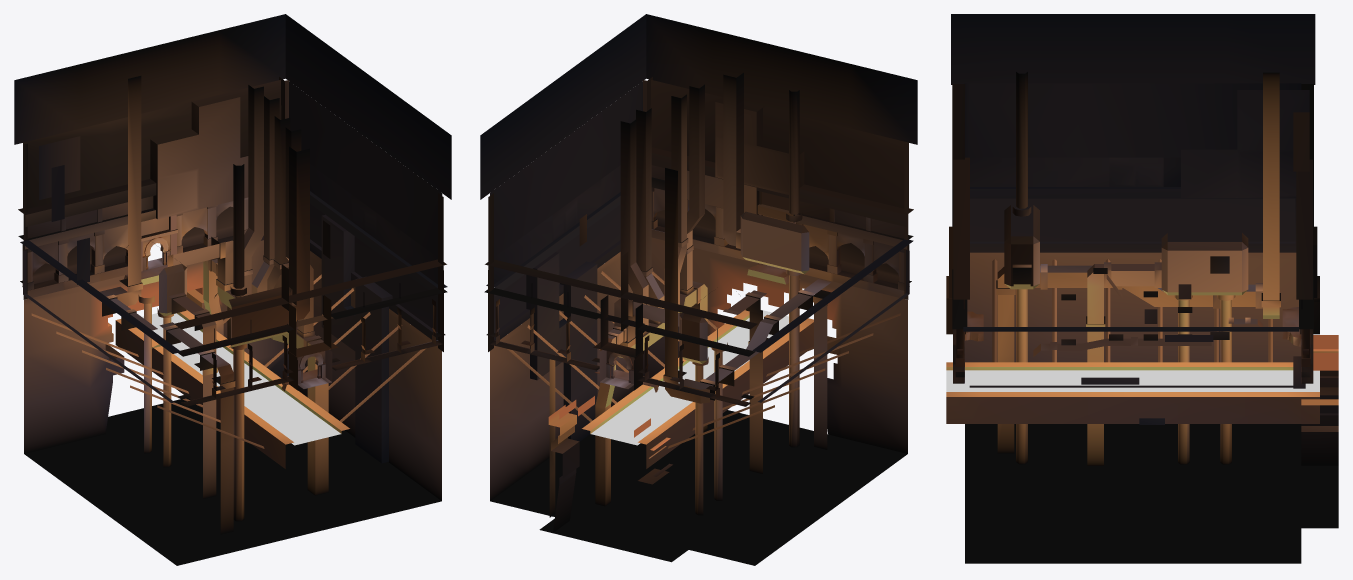
File: 07Lava.gltf
The picture shows the model from 3 angles, left to right: view 1: azimuth 30°, elevation 25°; view 2: azimuth 150°, elevation 25°; view 3: azimuth 270°, elevation 25°; orthographic projection. The views are drawn at different scales.
Visible parts, largest first — view 1: stg031_o27_Mesh_0048, stg031_o27_Mesh_0030, stg031_o27_Mesh_0000, stg031_o27_Mesh_0026, stg031_o27_Mesh_0062, stg031_o27_Mesh_0006, stg031_o27_Mesh_0018, stg031_o27_Mesh_0022, stg031_o27_Mesh_0073, stg031_o27_Mesh_0071, stg031_steelflow_27_Mesh_0000, stg031_o27_Mesh_0043 (+16 smaller); view 2: stg031_o27_Mesh_0048, stg031_o27_Mesh_0030, stg031_o27_Mesh_0000, stg031_o27_Mesh_0062, stg031_o27_Mesh_0026, stg031_o27_Mesh_0006, stg031_o27_Mesh_0018, stg031_o27_Mesh_0022, stg031_o27_Mesh_0071, stg031_o27_Mesh_0073, stg031_o27_Mesh_0043, stg031_steelflow_27_Mesh_0000 (+16 smaller); view 3: stg031_o27_Mesh_0030, stg031_o27_Mesh_0048, stg031_o27_Mesh_0000, stg031_o27_Mesh_0062, stg031_o27_Mesh_0073, stg031_o27_Mesh_0018, stg031_o27_Mesh_0026, stg031_steelflow_27_Mesh_0000, stg031_o27_Mesh_0022, stg031_o27_Mesh_0006, stg031_o27_Mesh_0043, stg031_o27_Mesh_0011 (+11 smaller).
Boxes of the visible parts, x1,y1,x2,y2 form: stg031_o27_Mesh_0048: (14,14,451,451); stg031_o27_Mesh_0030: (24,251,441,565); stg031_o27_Mesh_0000: (99,76,328,534); stg031_o27_Mesh_0026: (39,97,392,463); stg031_o27_Mesh_0062: (23,83,439,257); stg031_o27_Mesh_0006: (31,164,426,521); stg031_o27_Mesh_0018: (23,80,437,360); stg031_o27_Mesh_0022: (20,77,447,360); stg031_o27_Mesh_0073: (115,310,349,468); stg031_o27_Mesh_0071: (18,199,447,389); stg031_steelflow_27_Mesh_0000: (142,313,340,445); stg031_o27_Mesh_0043: (18,155,446,329); stg031_o27_Mesh_0048: (480,14,917,451); stg031_o27_Mesh_0030: (490,237,907,565); stg031_o27_Mesh_0000: (595,72,830,506); stg031_o27_Mesh_0062: (492,83,908,257); stg031_o27_Mesh_0026: (495,102,804,517); stg031_o27_Mesh_0006: (507,90,900,515); stg031_o27_Mesh_0018: (494,80,908,360); stg031_o27_Mesh_0022: (486,77,913,360); stg031_o27_Mesh_0071: (484,177,913,389); stg031_o27_Mesh_0073: (582,309,813,468); stg031_o27_Mesh_0043: (485,147,913,329); stg031_steelflow_27_Mesh_0000: (591,310,788,445); stg031_o27_Mesh_0030: (965,252,1338,563); stg031_o27_Mesh_0048: (951,14,1315,362); stg031_o27_Mesh_0000: (997,72,1279,465); stg031_o27_Mesh_0062: (969,83,1295,157); stg031_o27_Mesh_0073: (946,362,1319,423); stg031_o27_Mesh_0018: (970,198,1295,241); stg031_o27_Mesh_0026: (1081,90,1309,424); stg031_steelflow_27_Mesh_0000: (946,370,1319,391); stg031_o27_Mesh_0022: (946,83,1319,331); stg031_o27_Mesh_0006: (992,72,1272,464); stg031_o27_Mesh_0043: (953,157,1312,299); stg031_o27_Mesh_0011: (996,149,1296,349).
Size of the model in its own units: 94.87 by 120 by 105.
